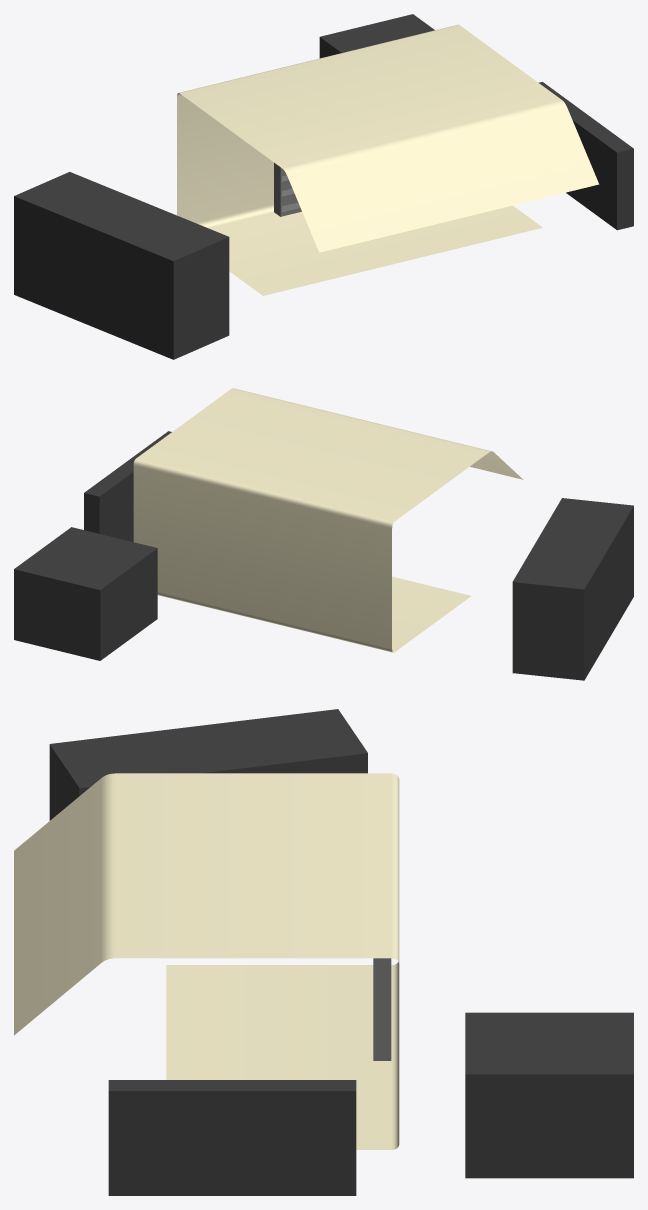
Rendered from BookCase12272014_01.FBX.
The picture shows the model from 3 angles, top to bottom: view 1: azimuth 30°, elevation 25°; view 2: azimuth 150°, elevation 25°; view 3: azimuth 270°, elevation 25°; orthographic projection. The views are drawn at different scales.
Parts seen in each view (by area): view 1: Plane01, Box13, Box02, Box14; view 2: Plane01, Box13, Box14, Box02; view 3: Plane01, Box02, Box14, Box13, Plane01_ncl1_1.
Part boxes in pixels (x1,y1,x2,y2): Plane01: [177, 24, 599, 295]; Box13: [14, 172, 229, 359]; Box02: [539, 82, 633, 230]; Box14: [319, 14, 434, 58]; Plane01: [133, 388, 523, 652]; Box13: [512, 498, 633, 680]; Box14: [14, 527, 157, 660]; Box02: [84, 431, 171, 541]; Plane01: [14, 773, 399, 1149]; Box02: [108, 1080, 356, 1195]; Box14: [465, 1012, 633, 1178]; Box13: [49, 709, 367, 820]; Plane01_ncl1_1: [373, 958, 390, 1060].
Size of the model in its own units: 500 by 126 by 370.
